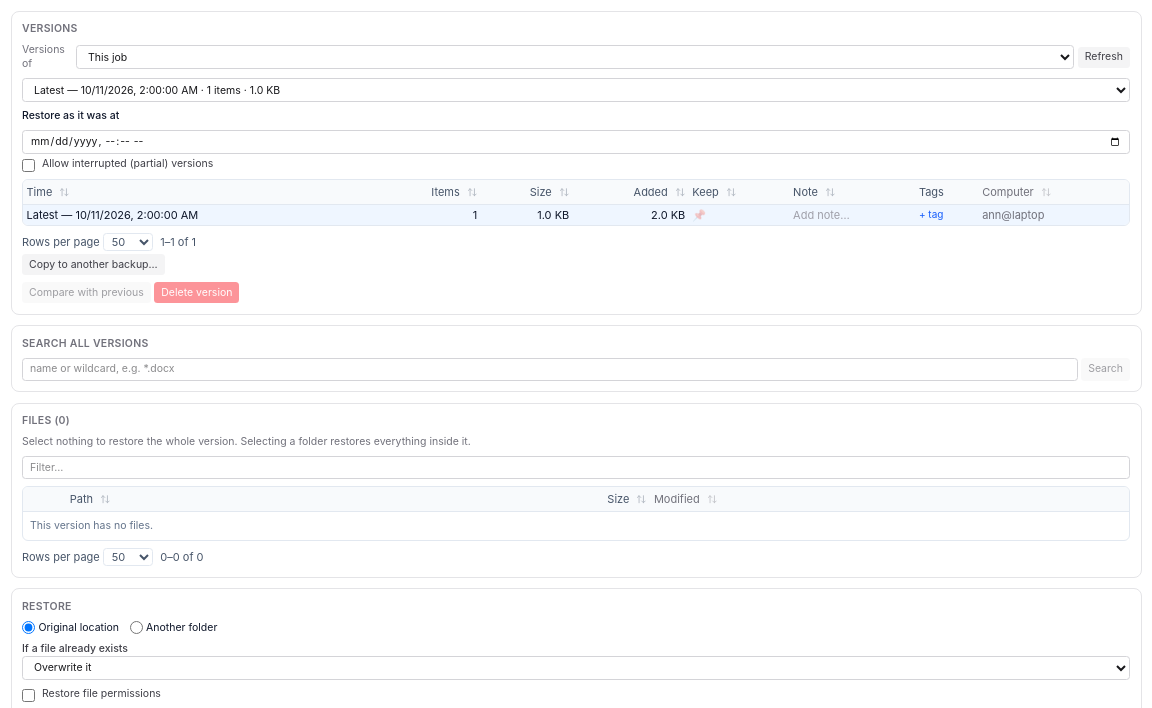
Test: shared repositories › browses another source's versions in Advanced mode
This screenshot has width=1152, height=708.
Select "bob@nas (Photos) · 2 version(s)" in the dropdown named "Source" at (575, 57), box top-left (76, 45), bottom-right (1074, 69)
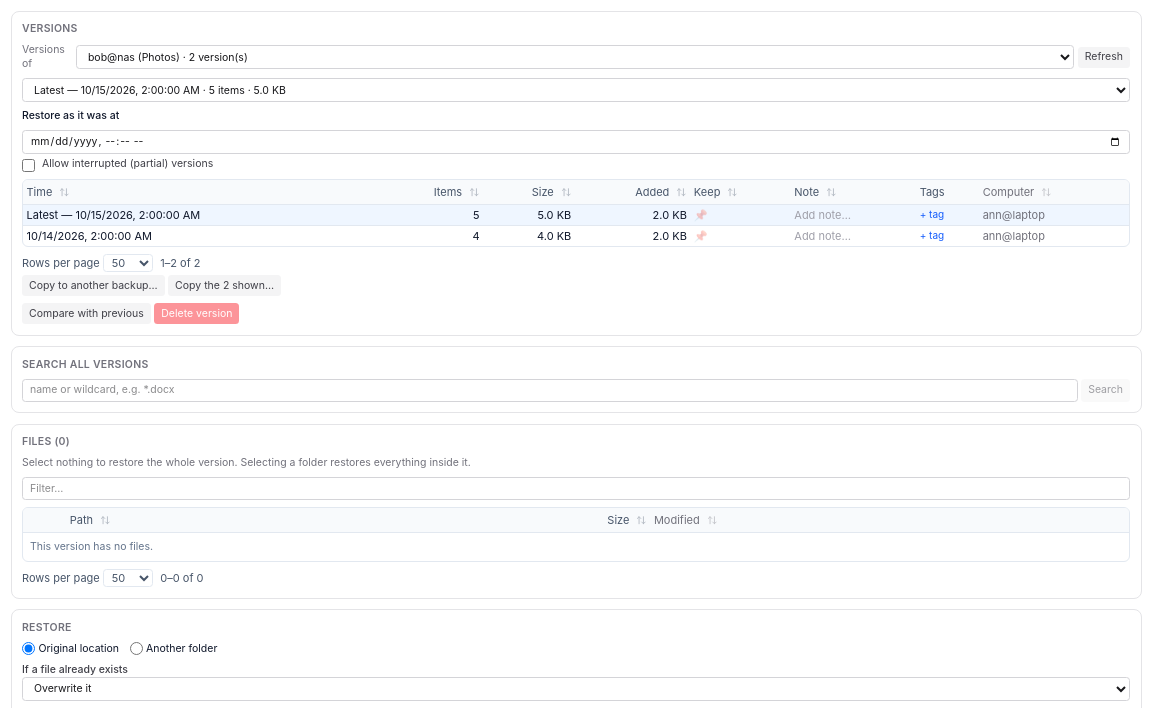
Expected: the row with test id "version-row-1" is shown, top-left (23, 225), bottom-right (1129, 246)
